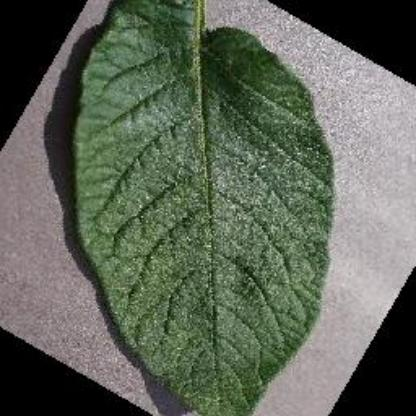Healthy-plant: (71, 0, 337, 416)
